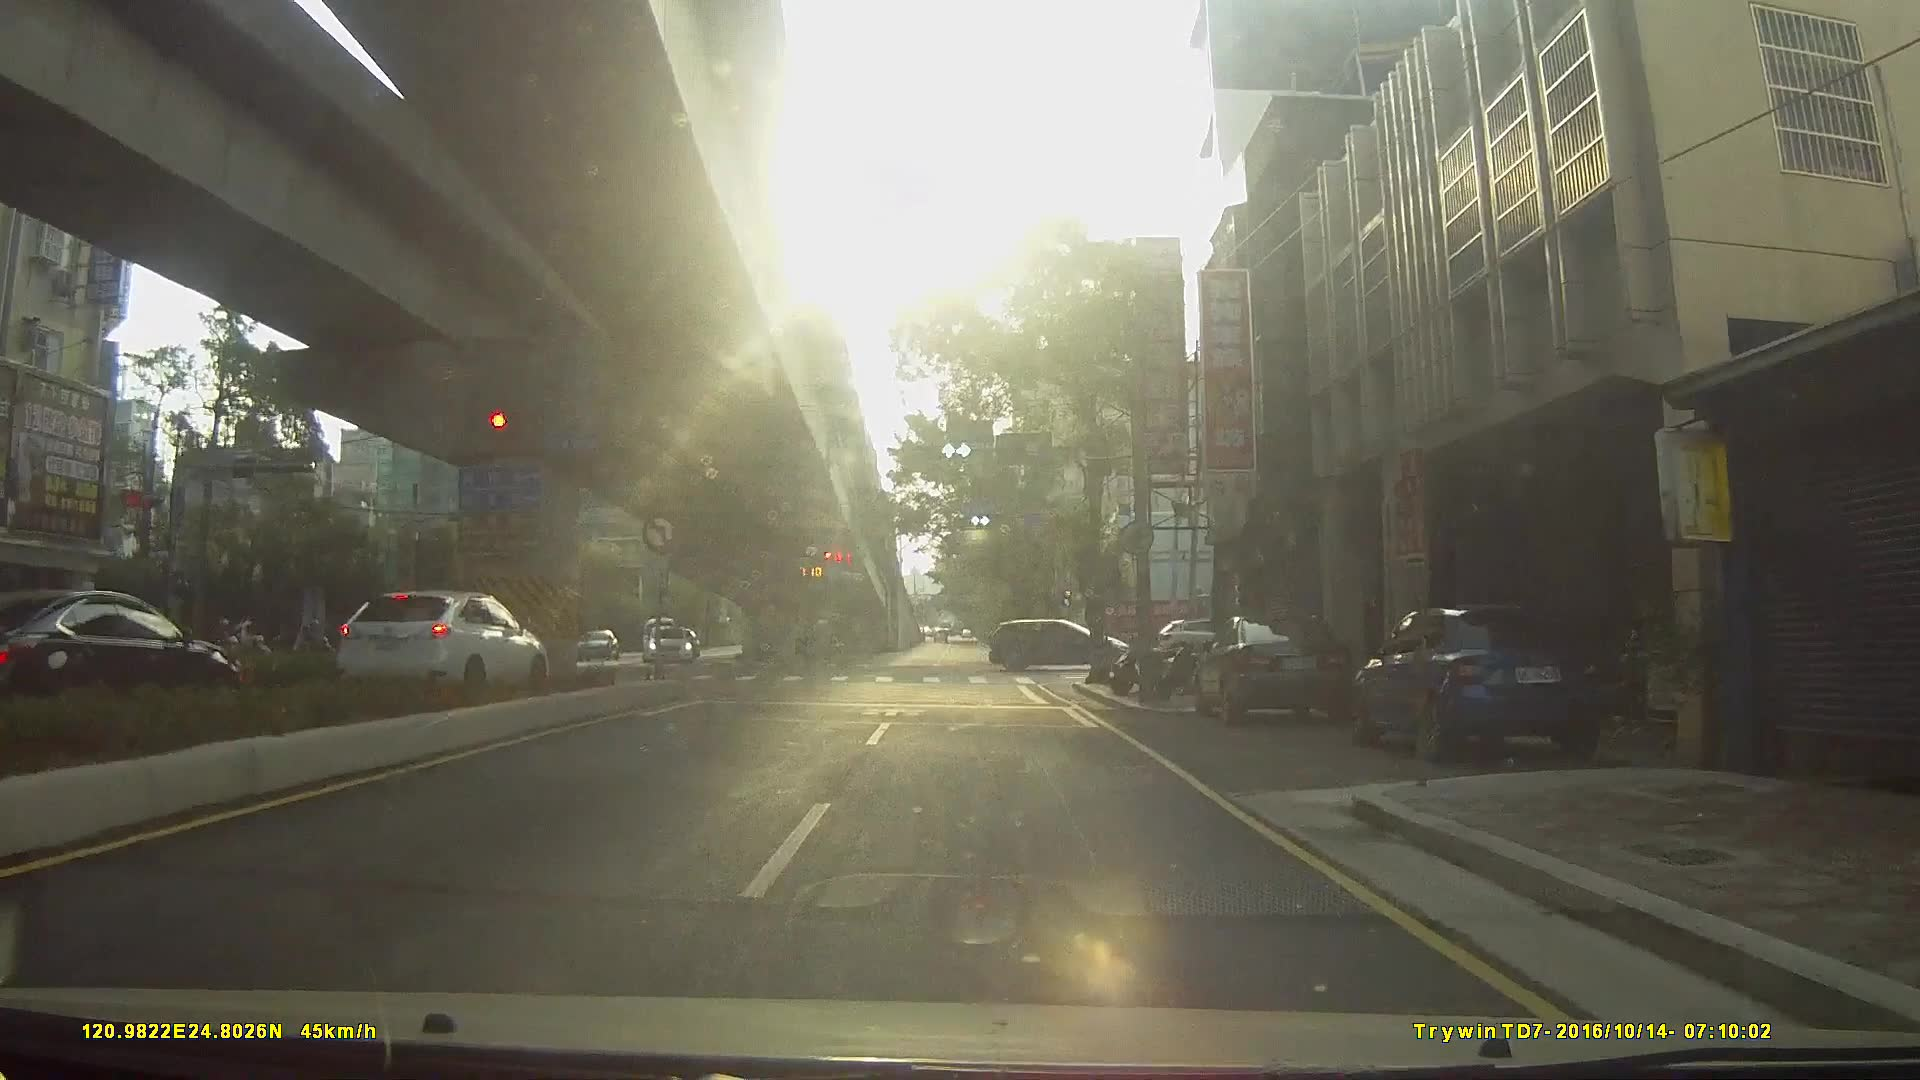vehicle: (1360, 601, 1623, 767), (1, 589, 249, 731), (313, 589, 560, 703), (1196, 609, 1364, 727), (992, 616, 1141, 671), (642, 620, 691, 661), (568, 626, 617, 658)
